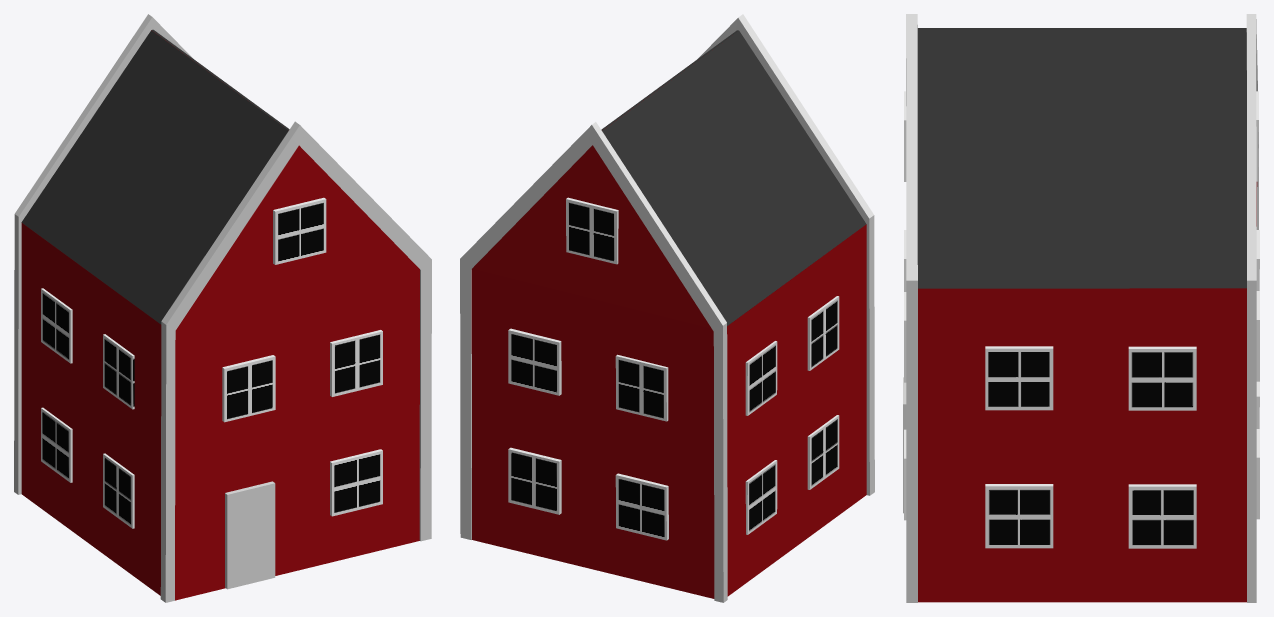
Rendered from NorwegianHouse.fbx.
The picture shows the model from 3 angles, left to right: view 1: azimuth 30°, elevation 25°; view 2: azimuth 150°, elevation 25°; view 3: azimuth 270°, elevation 25°; orthographic projection. The views are drawn at different scales.
Parts seen in each view (by area): view 1: House, Roof, Door/Edge, window; view 2: House, Roof, window, Door/Edge; view 3: House, Roof, window, Door/Edge.
Boxes of the visible parts, left/top/right/bottom form: House: left=21, top=30, right=419, bottom=600; Roof: left=21, top=29, right=289, bottom=324; Door/Edge: left=14, top=14, right=431, bottom=602; window: left=41, top=197, right=382, bottom=528; House: left=471, top=100, right=866, bottom=598; Roof: left=601, top=30, right=866, bottom=325; window: left=508, top=197, right=839, bottom=540; Door/Edge: left=460, top=14, right=874, bottom=602; House: left=918, top=182, right=1257, bottom=602; Roof: left=917, top=28, right=1246, bottom=288; window: left=904, top=91, right=1259, bottom=548; Door/Edge: left=903, top=14, right=1258, bottom=602.
Bounding box in the file's own units: 206 × 329 × 206.
Materials: 4 (1 with a texture image).
